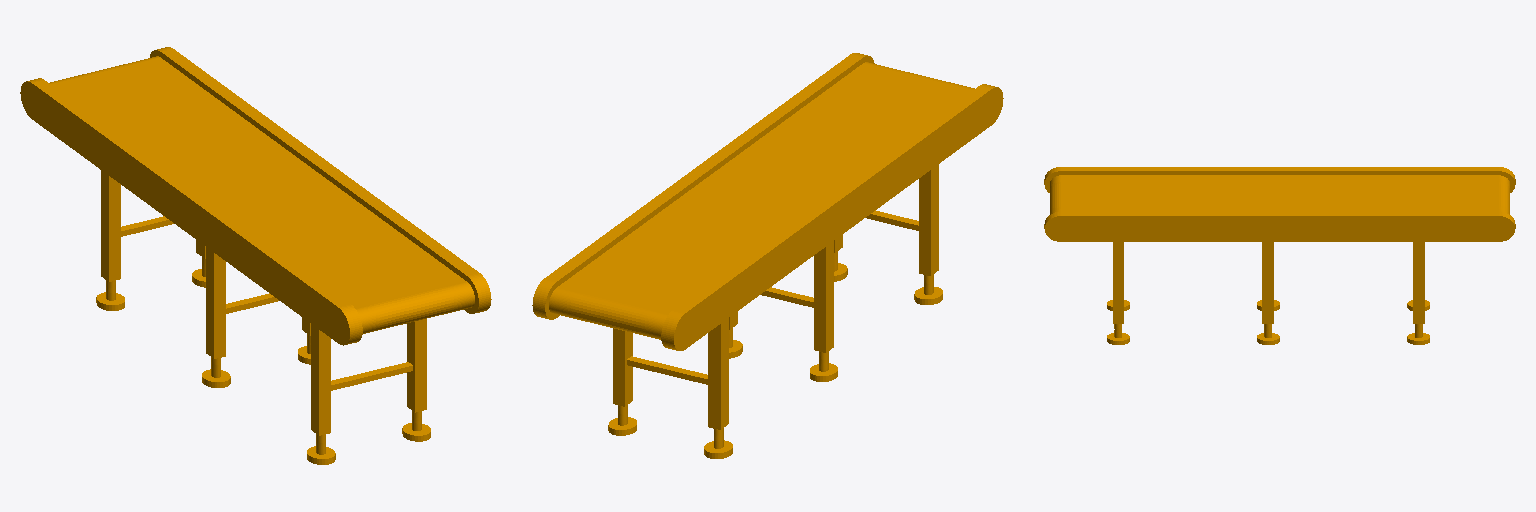
The robot description file, URDF, robot "converyor":
<?xml version="0.0" ?>
<robot name="converyor">
  <link name="converyorLink">
    <contact>
      <lateral_friction value="0.0"/>
      <rolling_friction value="0.0"/>
      <contact_cfm value="0.0"/>
      <contact_erp value="1.0"/>
    </contact>
    <inertial>
      <origin rpy="0 0 0" xyz="0 0 0"/>
       <mass value=".1"/>
       <inertia ixx="0" ixy="0" ixz="0" iyy="0" iyz="0" izz="0"/>
    </inertial>
    <visual>
      <origin rpy="0 0 0" xyz="0 0 0"/>
      <geometry>
				<mesh filename="converyor.obj" scale="1 1 1"/>
      </geometry>
    </visual>
    <collision>
      <origin rpy="-0.00047 0 0" xyz="0 0 0.240"/>
      <geometry>
	 	    <box size="0.402687 1.62562 0.500"/>
      </geometry>
    </collision>
  </link>
</robot>

--- Facts derived from the render (not from the file) ---
The picture shows the robot from 3 angles, left to right: view 1: azimuth 30°, elevation 25°; view 2: azimuth 150°, elevation 25°; view 3: azimuth 270°, elevation 25°; orthographic projection.
Model converyor with 1 links and 0 joints (none), rooted at converyorLink, posed all joints at 0.
Visible links, largest first — view 1: converyorLink; view 2: converyorLink; view 3: converyorLink.
Link boxes in pixels (<box>): converyorLink: <box>20,47,491,464</box>; converyorLink: <box>532,53,1003,458</box>; converyorLink: <box>1044,167,1515,344</box>.
Bounding box of the posed robot: 0.4027 × 1.63 × 0.5061 m (x, y, z).
1 mesh visuals loaded from 1 distinct referenced files (1 OBJ).